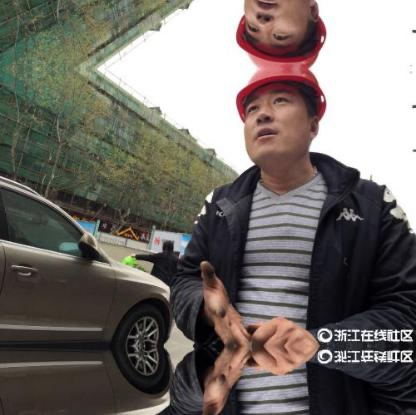Safety Helmet: (228, 66, 330, 181), (231, 1, 334, 65)
